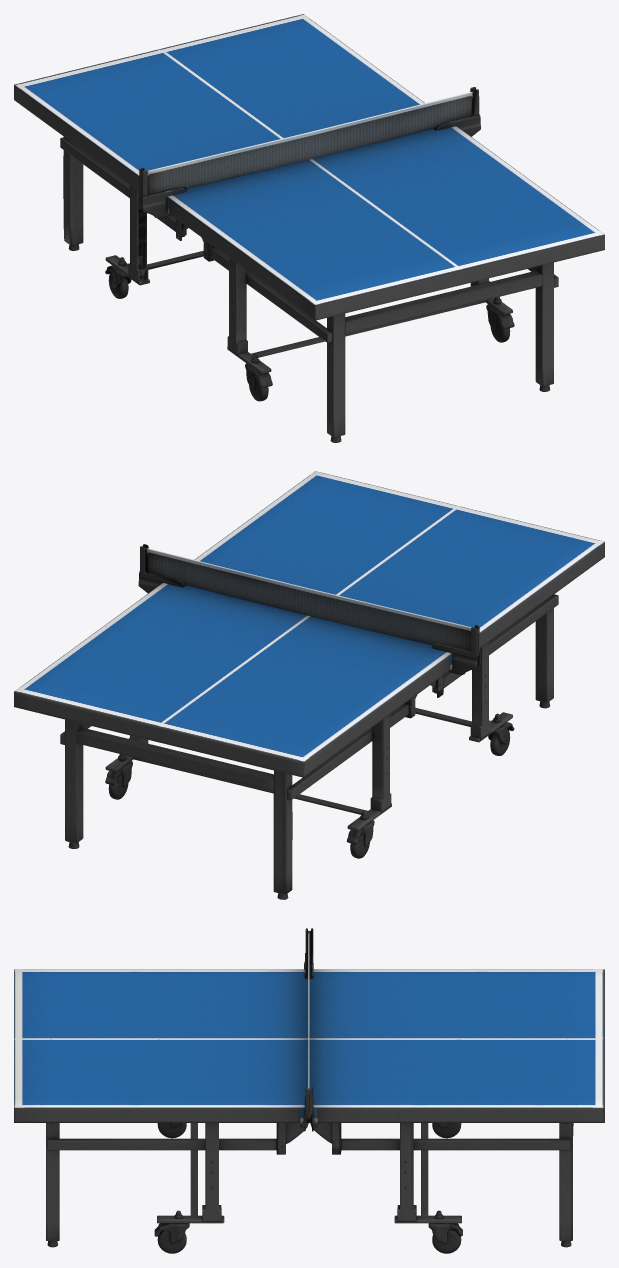
Rendered from table.glb.
3 views of the same model, one above another, from view 1: azimuth 30°, elevation 25°; view 2: azimuth 150°, elevation 25°; view 3: azimuth 270°, elevation 25° (orthographic). The views are drawn at different scales.
Parts seen in each view (by area): view 1: table.001; view 2: table.001; view 3: table.001.
Boxes of the visible parts, x1=… form: table.001: x1=14, y1=14, x2=604, y2=442; table.001: x1=14, y1=471, x2=604, y2=899; table.001: x1=14, y1=928, x2=604, y2=1253.
Size of the model in its own units: 179 by 96.42 by 276.
1 material, 1 textured.
